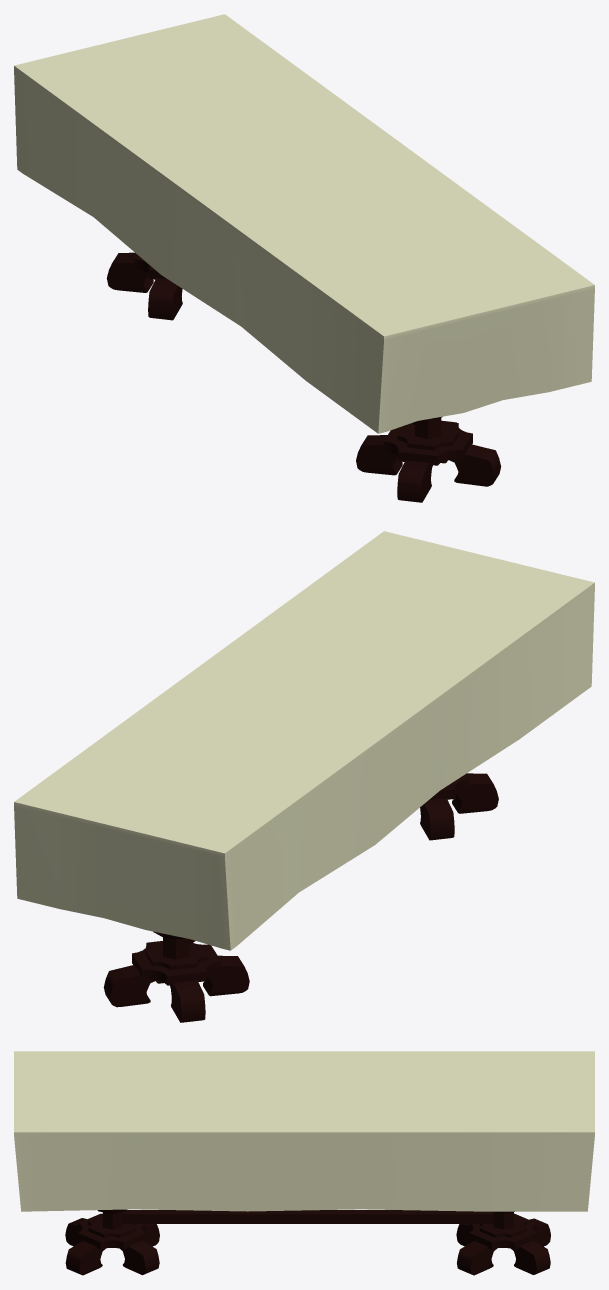
The model's file is LongTable.fbx.
3 views of the same model, one above another, from view 1: azimuth 30°, elevation 25°; view 2: azimuth 150°, elevation 25°; view 3: azimuth 270°, elevation 25° (orthographic). The views are drawn at different scales.
Visible parts, largest first — view 1: polySurface39; view 2: polySurface39; view 3: polySurface39.
Boxes of the visible parts, <box> form: polySurface39: <box>14,14,594,502</box>; polySurface39: <box>14,531,594,1022</box>; polySurface39: <box>14,1051,594,1275</box>.
Bounding box in the file's own units: 5.64 × 5.35 × 16.94.
